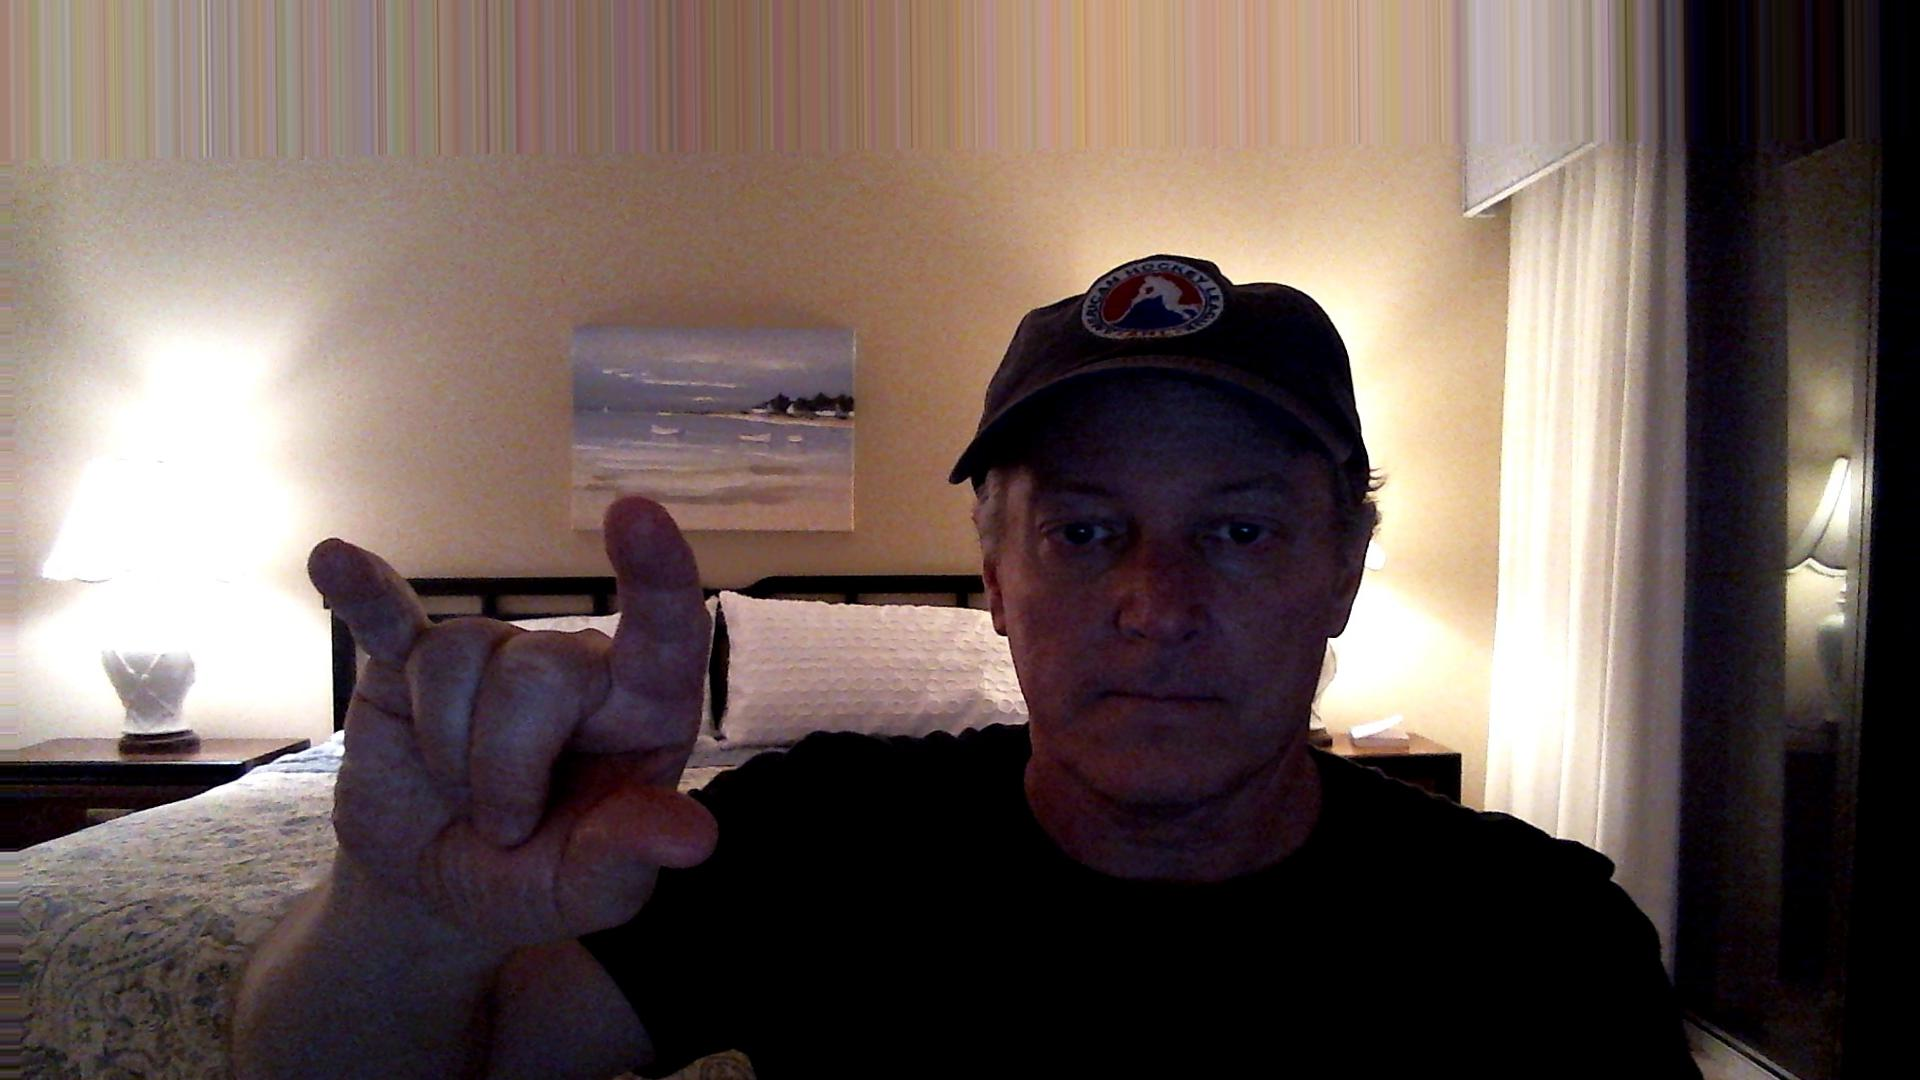I Love You: (265, 484, 756, 953)
